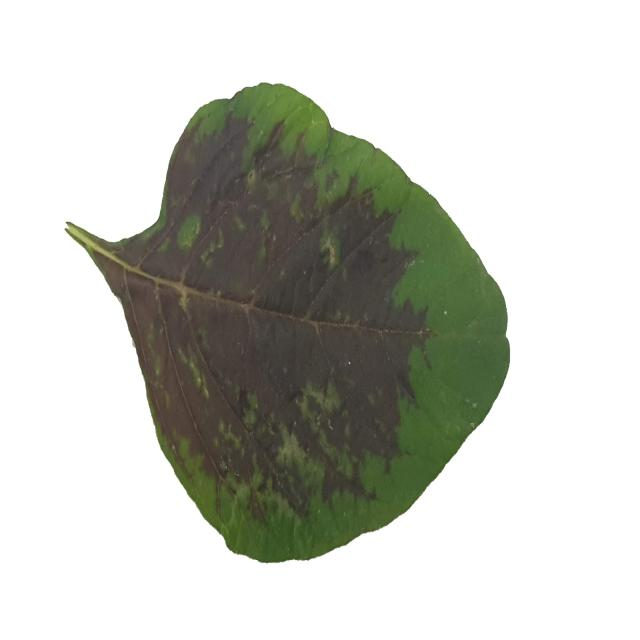Medicinal-Arive Dantu: (66, 82, 511, 561)
